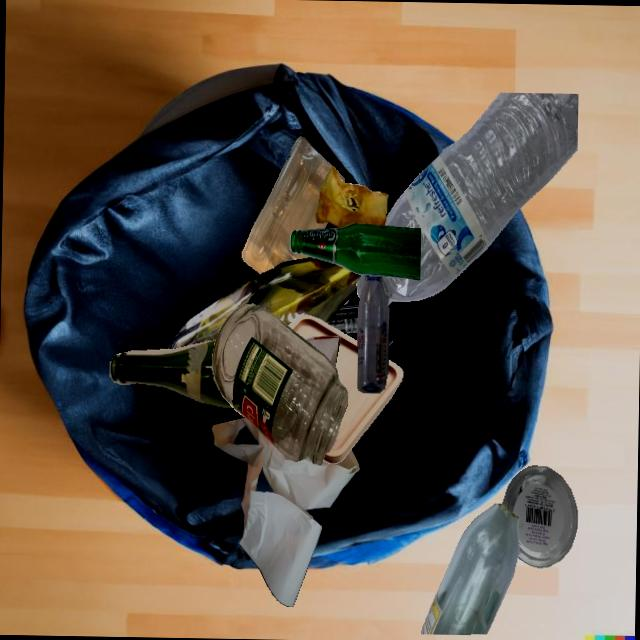biowaste: (315, 165, 387, 227)
combustible waste: (287, 314, 403, 463)
glass: (211, 303, 348, 465), (168, 257, 361, 349), (421, 503, 518, 634), (109, 339, 233, 407), (289, 223, 421, 281), (326, 291, 359, 341)
paper: (211, 417, 360, 606), (304, 335, 340, 367)
plastic: (381, 92, 578, 305), (241, 136, 332, 274), (502, 465, 577, 567), (357, 275, 388, 393)
